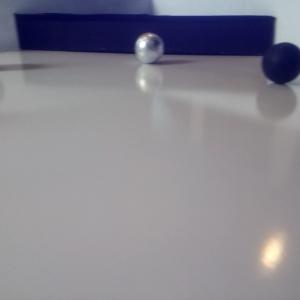zone: (14, 13, 274, 55)
